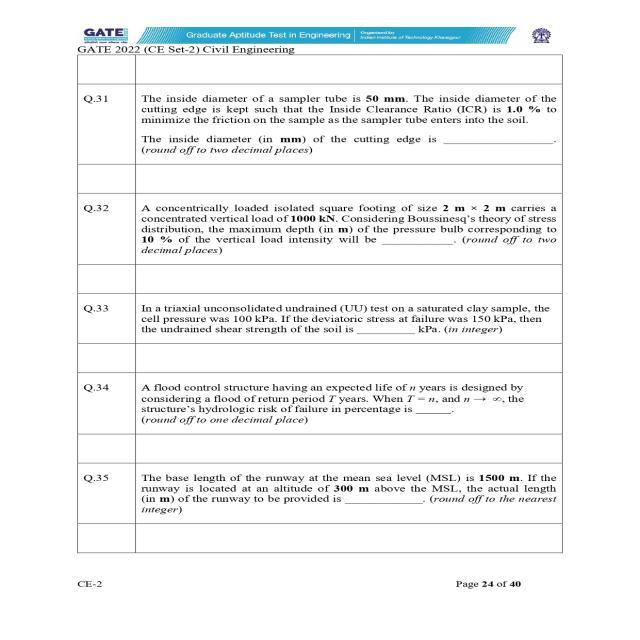Question_Answer_Block: (56, 52, 594, 164), (56, 194, 594, 266), (54, 460, 592, 522), (56, 376, 592, 436), (56, 291, 595, 345)
Question_Block: (56, 52, 594, 164), (56, 194, 594, 266), (54, 460, 592, 522), (56, 376, 592, 436), (56, 291, 595, 345)
Question_Paper_Area: (56, 52, 594, 572)
